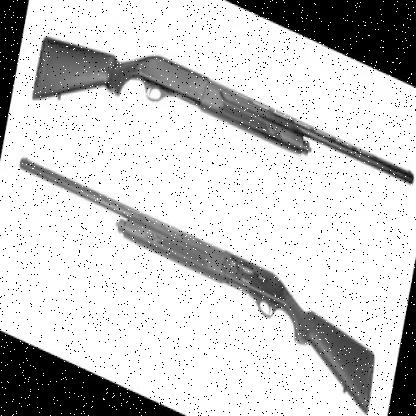rifle: (0, 145, 387, 416), (33, 0, 415, 263)
